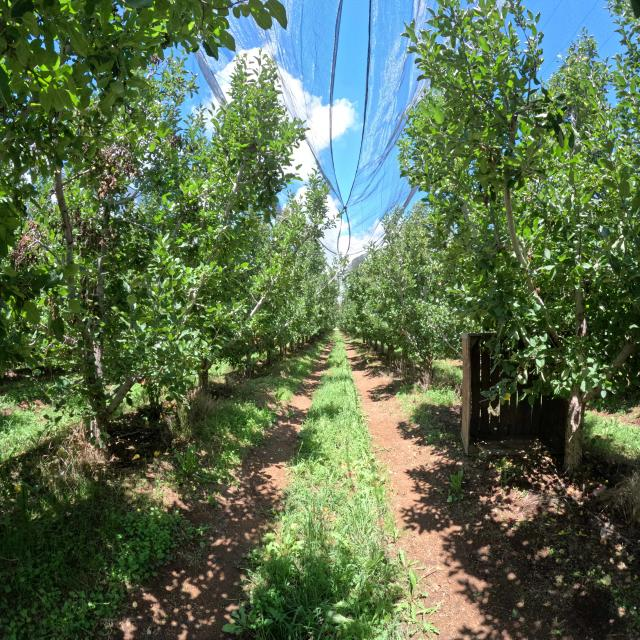-FireBlight-: (93, 140, 139, 203), (8, 217, 53, 272), (68, 215, 117, 260), (159, 132, 185, 151)
